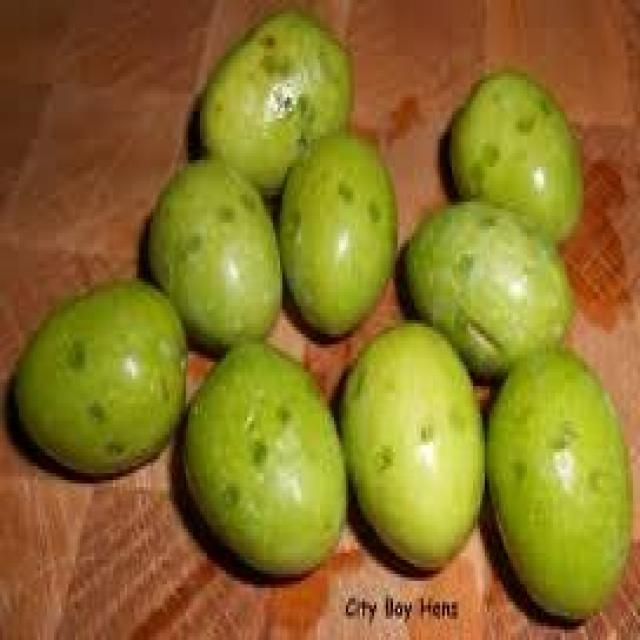Olive Fruit Fly: (487, 344, 631, 616), (186, 341, 346, 567), (339, 323, 482, 567), (16, 278, 186, 473), (405, 202, 569, 372), (202, 10, 351, 191), (151, 160, 280, 337), (449, 70, 579, 240), (280, 132, 393, 327)
